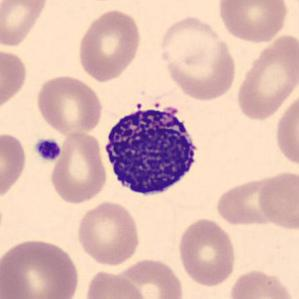Basophil: (100, 95, 205, 202)
Platelets: (32, 137, 63, 162)
RBC: (156, 13, 239, 102), (233, 31, 298, 123), (0, 235, 82, 299), (76, 7, 143, 83), (48, 129, 109, 206), (74, 199, 142, 267), (33, 72, 105, 136), (175, 216, 238, 288), (214, 173, 288, 228), (215, 0, 290, 44), (111, 256, 186, 299), (256, 168, 298, 232), (0, 0, 50, 49), (227, 267, 296, 299), (82, 268, 148, 299), (273, 89, 298, 170), (0, 130, 28, 202), (0, 46, 29, 113), (271, 0, 299, 10)
